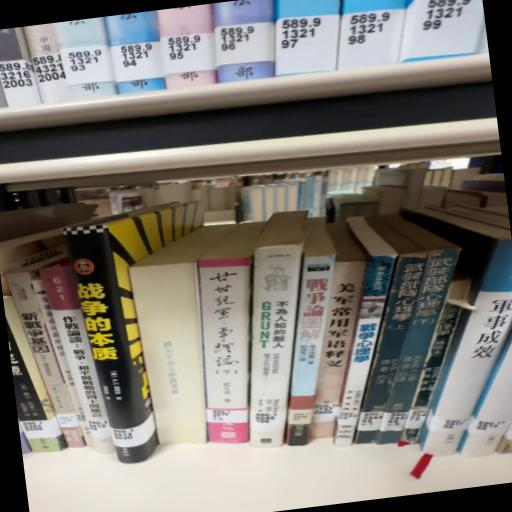backward: (131, 261, 222, 457)
book: (73, 228, 165, 470)
